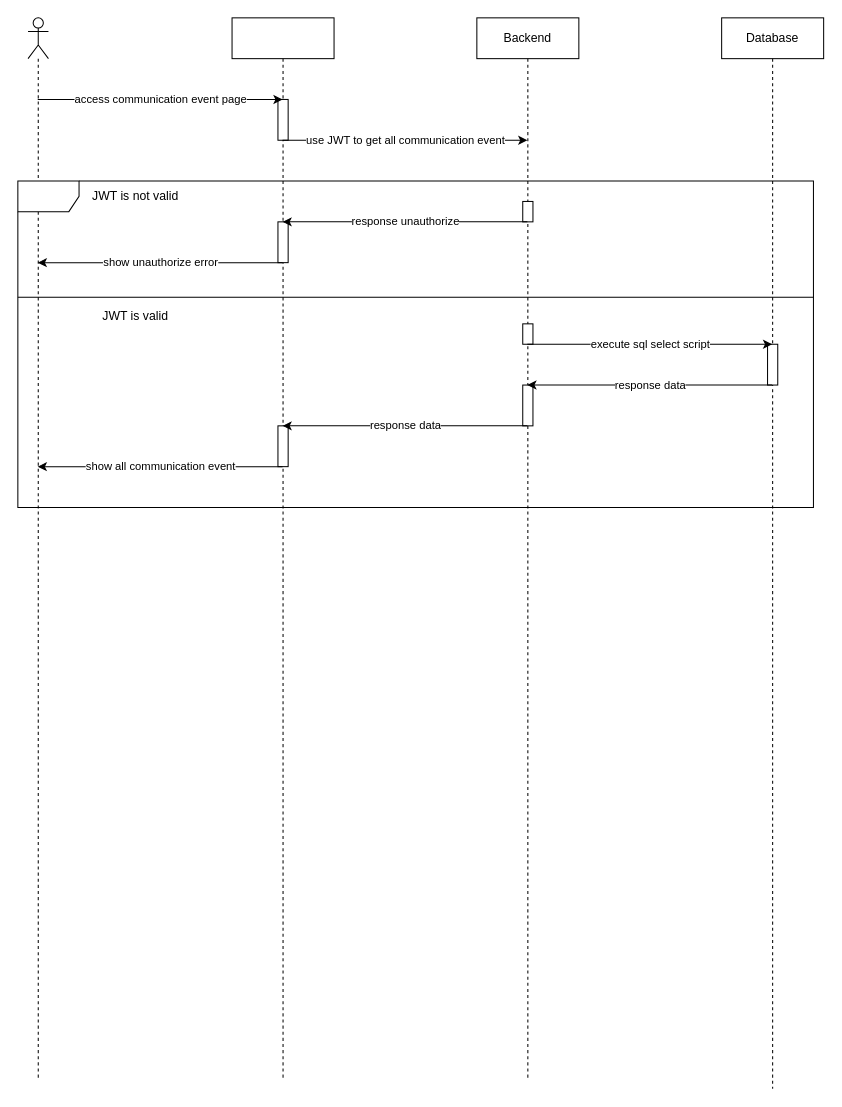
This 842x1107 diagram has some shape labels left out. The box of each missing label's shape, as (x1, y1, x2, y2) in pixels:
condition: (17, 180, 813, 507)
Frontend: (231, 17, 334, 1079)
